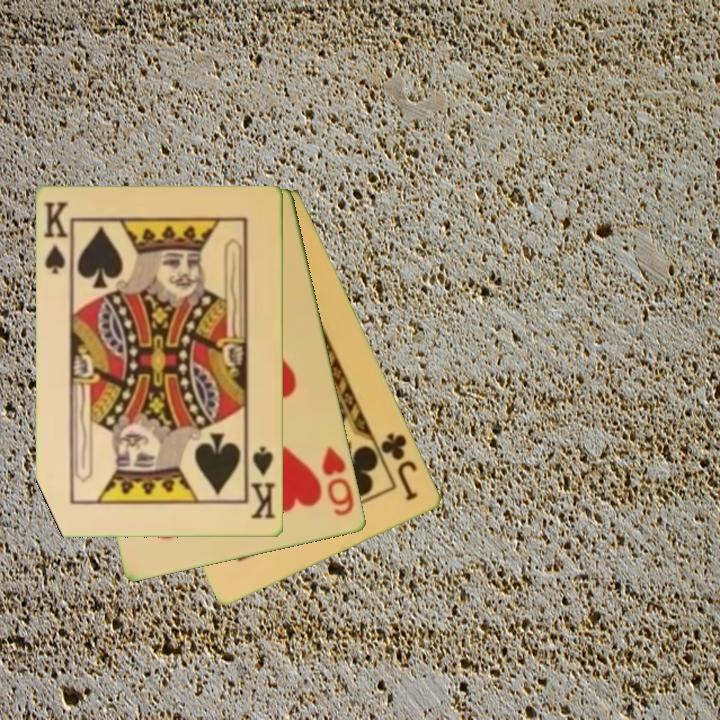6h: (318, 443, 358, 519)
Jc: (377, 429, 422, 504)
Ks: (41, 199, 74, 280), (245, 443, 278, 522)
